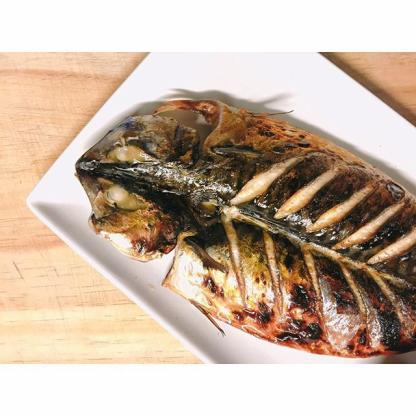Peixe: (71, 93, 416, 358)
